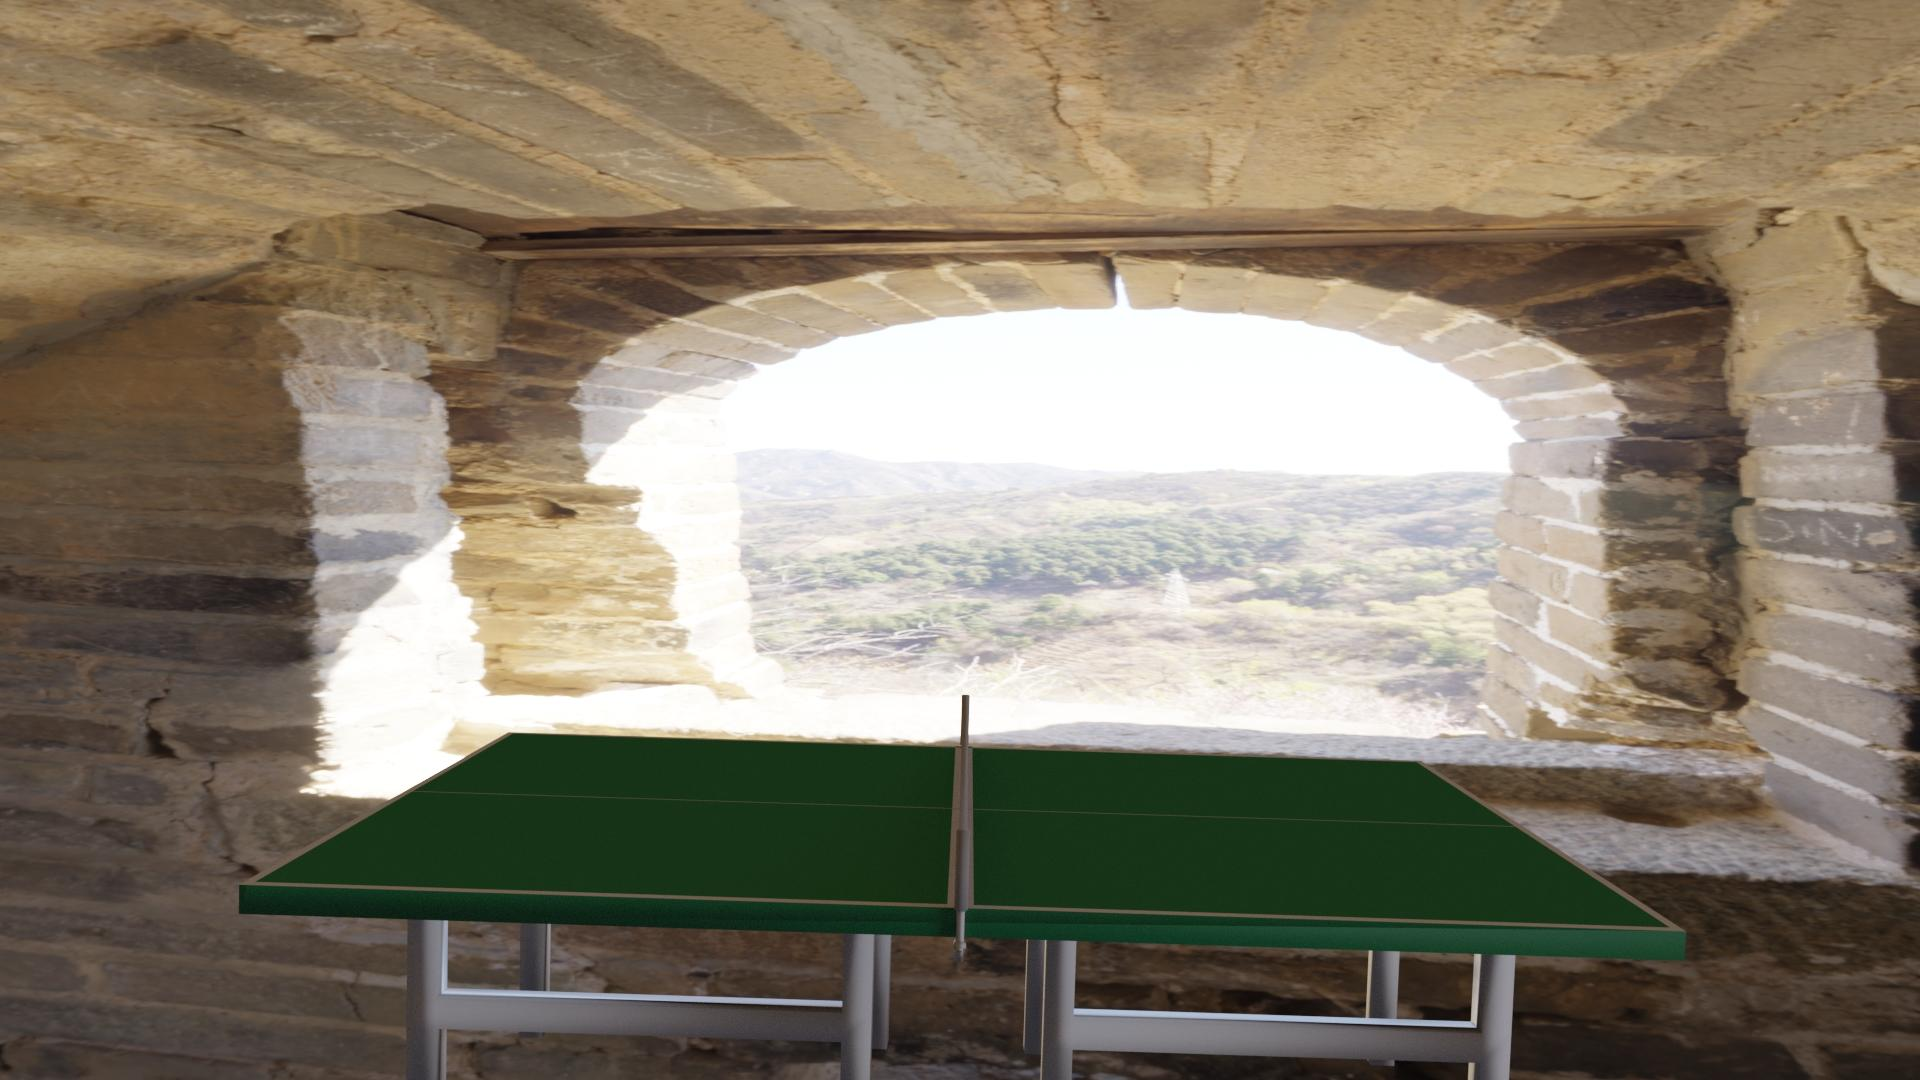table: (255, 733, 1671, 927)
